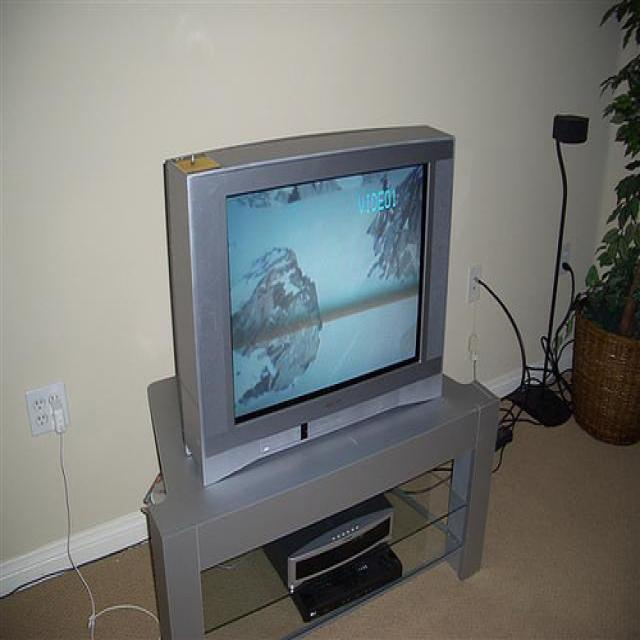pottedplant: (573, 1, 639, 446)
tvmonitor: (164, 124, 457, 489)
